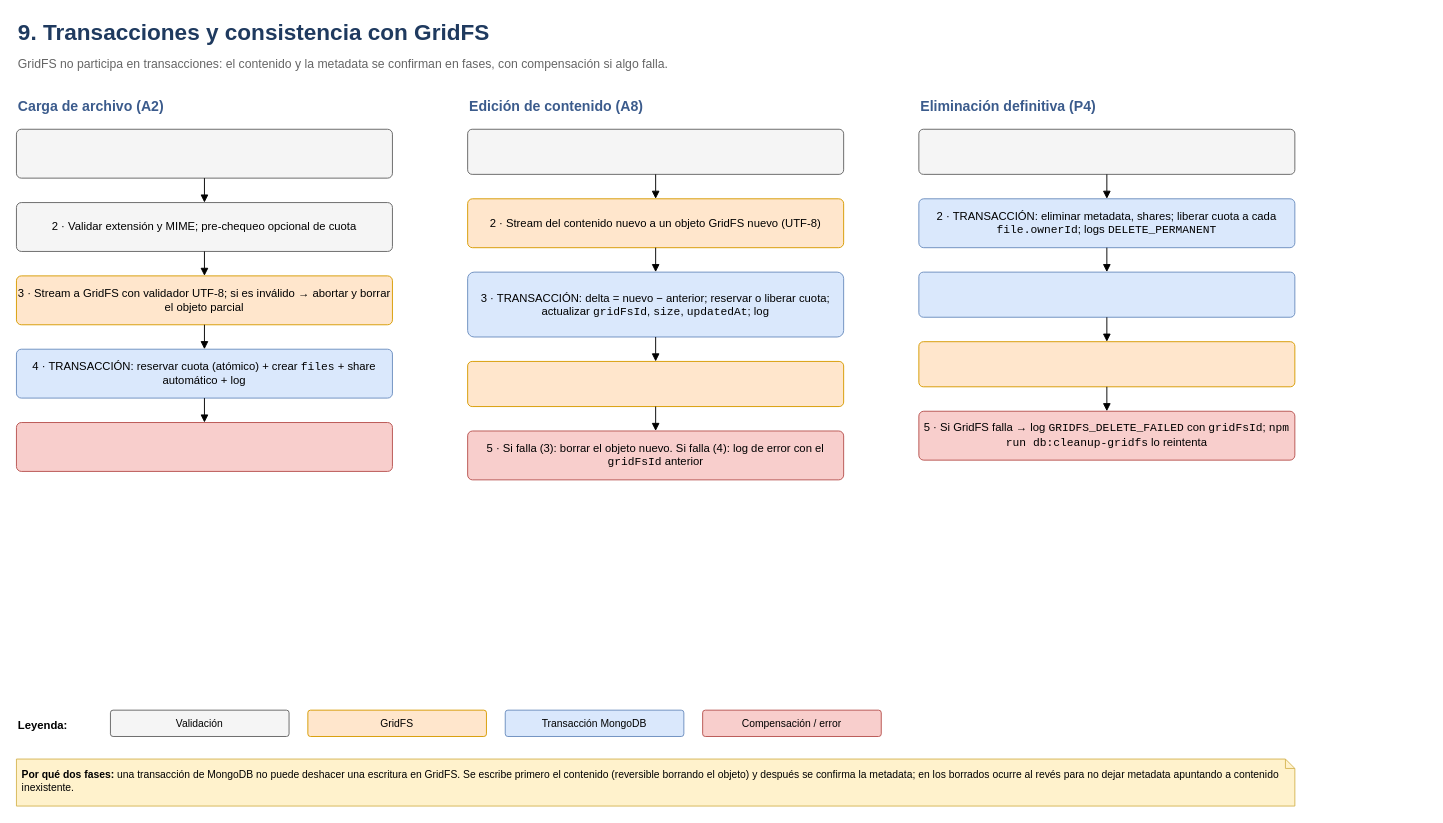
The diagram is 1443 pixels wide and 823 high, and some of its shapes have lost their labels. Here are the shapes that lost their labels. From the top down, the box of each, then its label:
(16, 128, 392, 178): 1 · Validar JWT, isActive y permiso edit sobre la carpeta destino
(467, 128, 844, 174): 1 · Validar permiso edit o propietario
(918, 128, 1295, 174): 1 · Identificar todos los recursos del deletionId
(918, 271, 1295, 317): 3 · COMMIT
(467, 360, 844, 407): 4 · COMMIT → eliminar el objeto GridFS anterior
(918, 341, 1295, 387): 4 · Eliminar los objetos de GridFS
(16, 422, 392, 471): 5 · Si falla la reserva o la transacción → eliminar el objeto GridFS
